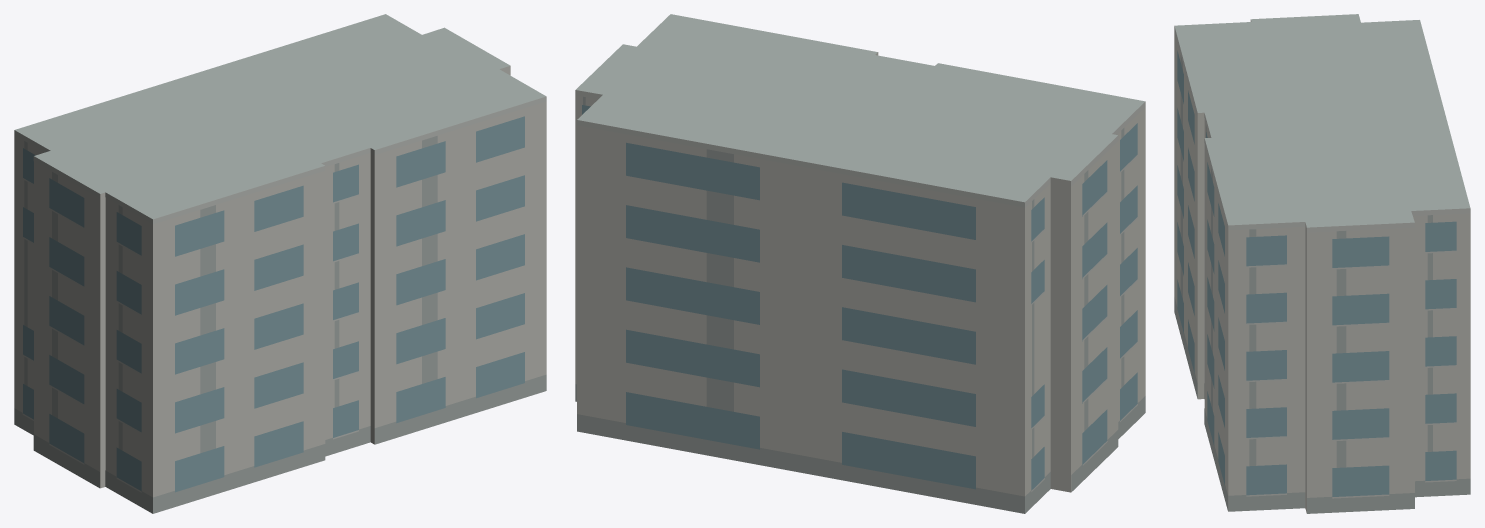
The model's file is survey-upis-32891851.glb.
The picture shows the model from 3 angles, left to right: view 1: azimuth 30°, elevation 25°; view 2: azimuth 150°, elevation 25°; view 3: azimuth 270°, elevation 25°; orthographic projection. The views are drawn at different scales.
Parts seen in each view (by area): view 1: survey-upis-32891851.tmp; view 2: survey-upis-32891851.tmp; view 3: survey-upis-32891851.tmp.
Part boxes in pixels (<box>): survey-upis-32891851.tmp: <box>14,14,546,513</box>; survey-upis-32891851.tmp: <box>575,14,1145,513</box>; survey-upis-32891851.tmp: <box>1174,14,1470,513</box>.
Size of the model in its own units: 22.25 by 13.9 by 13.04.
